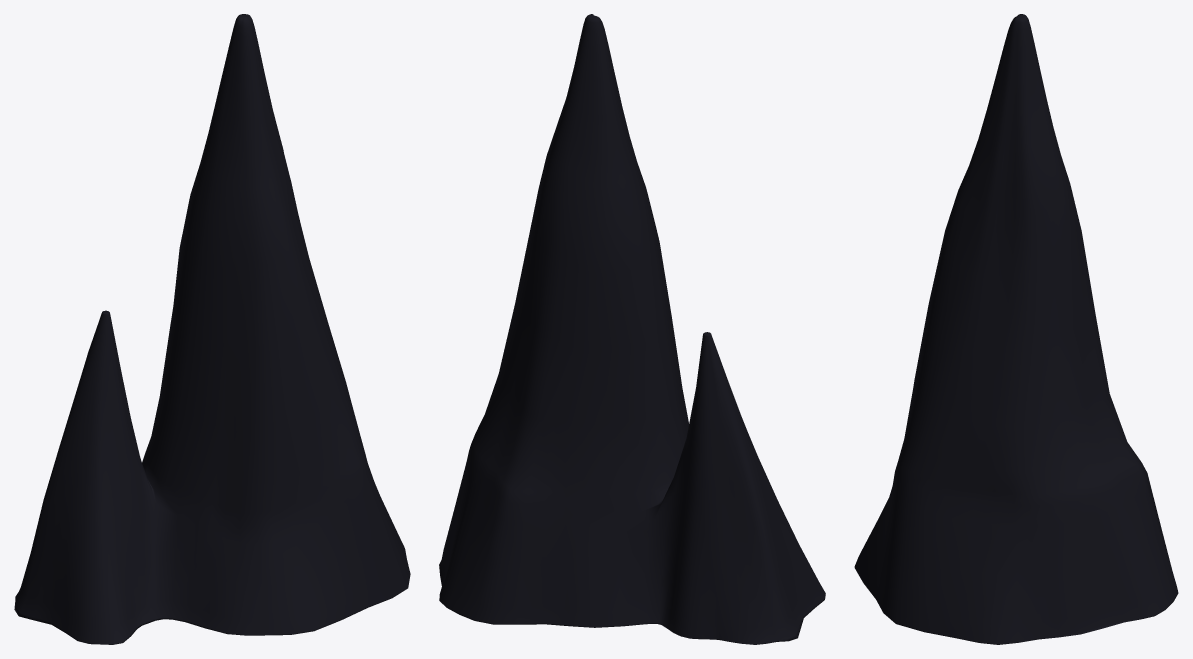
Rendered from stalagmite.glb.
3 renders of one model, left to right at view 1: azimuth 30°, elevation 25°; view 2: azimuth 150°, elevation 25°; view 3: azimuth 270°, elevation 25°, orthographic.
Parts seen in each view (by area): view 1: Stalagmite_lowpoly_maya; view 2: Stalagmite_lowpoly_maya; view 3: Stalagmite_lowpoly_maya.
Boxes of the visible parts, x1,y1,x2,y2 form: Stalagmite_lowpoly_maya: (14, 14, 410, 644); Stalagmite_lowpoly_maya: (439, 14, 825, 644); Stalagmite_lowpoly_maya: (854, 14, 1178, 644).
Size of the model in its own units: 2.87 by 4.25 by 2.22.
Materials: 1 (1 with a texture image).
